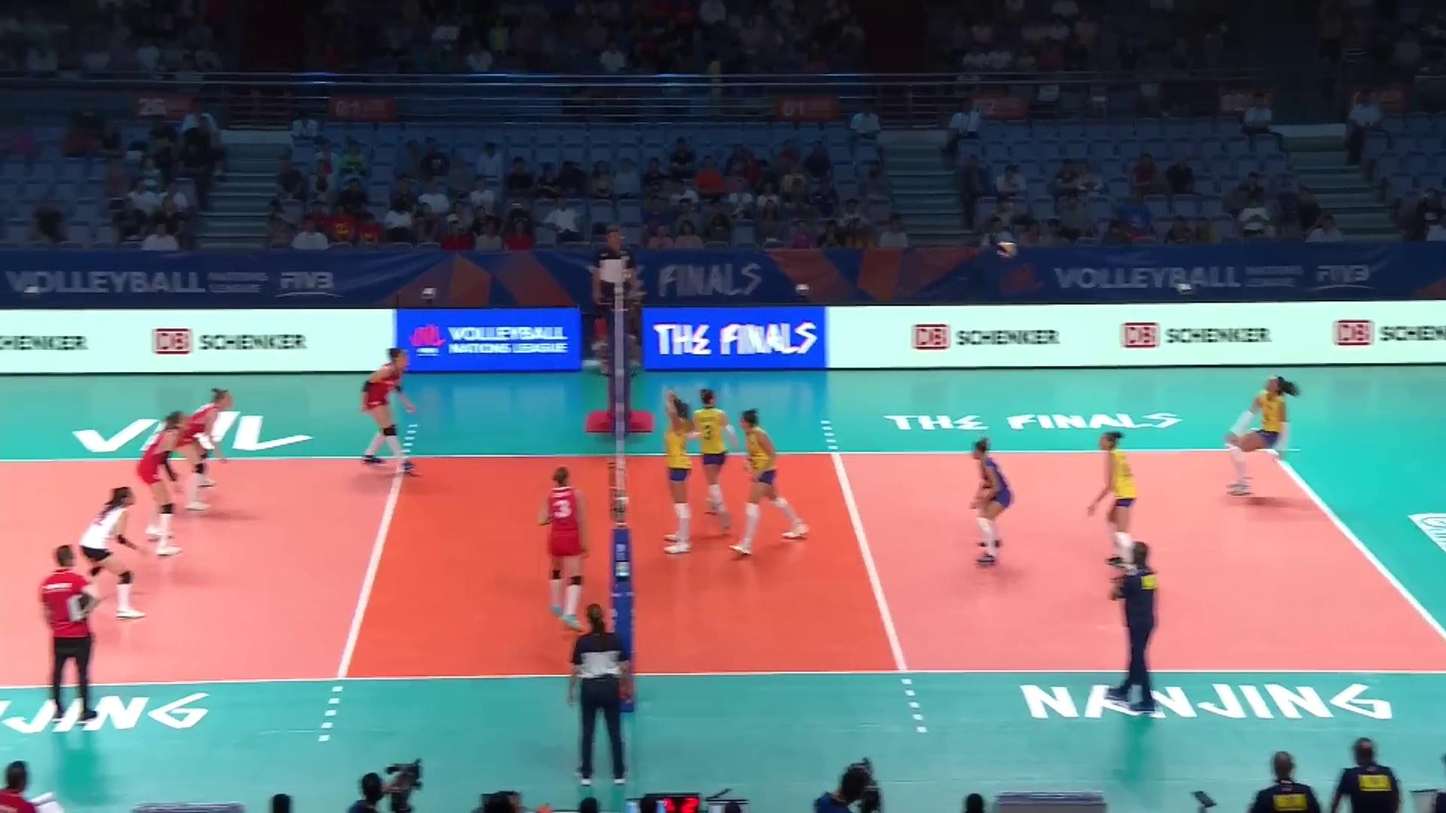player: (69, 486, 144, 620), (737, 411, 808, 551), (129, 410, 193, 559), (680, 391, 744, 536), (1087, 432, 1149, 581), (1222, 375, 1296, 496), (535, 467, 588, 632), (170, 391, 238, 512), (962, 440, 1017, 566), (357, 351, 413, 473), (661, 396, 698, 555)
refree: (569, 602, 635, 788), (593, 227, 642, 361)
